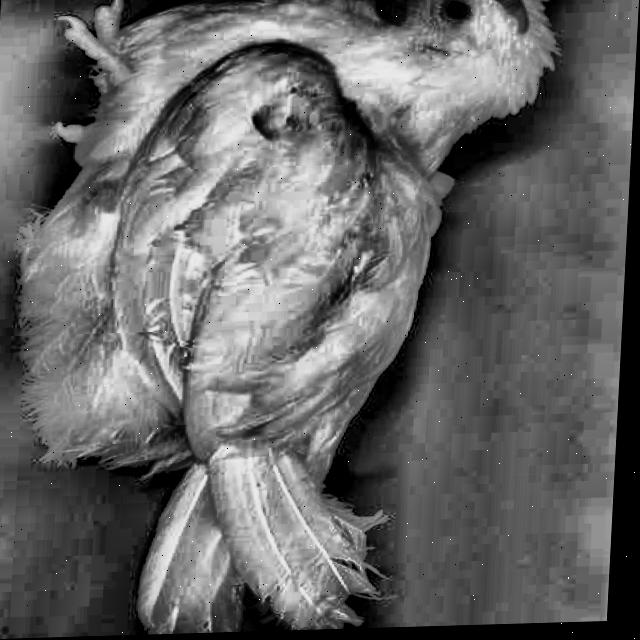Newcastle: (13, 0, 562, 639)
